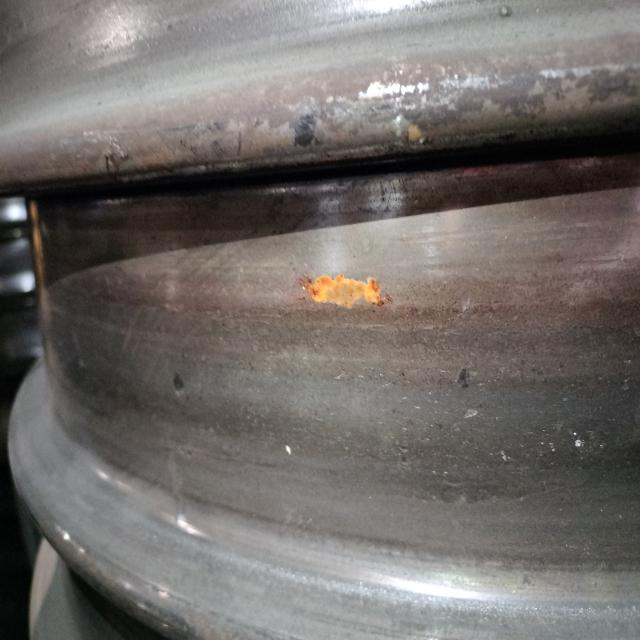Blue hole: (452, 359, 486, 405), (171, 361, 199, 411)
